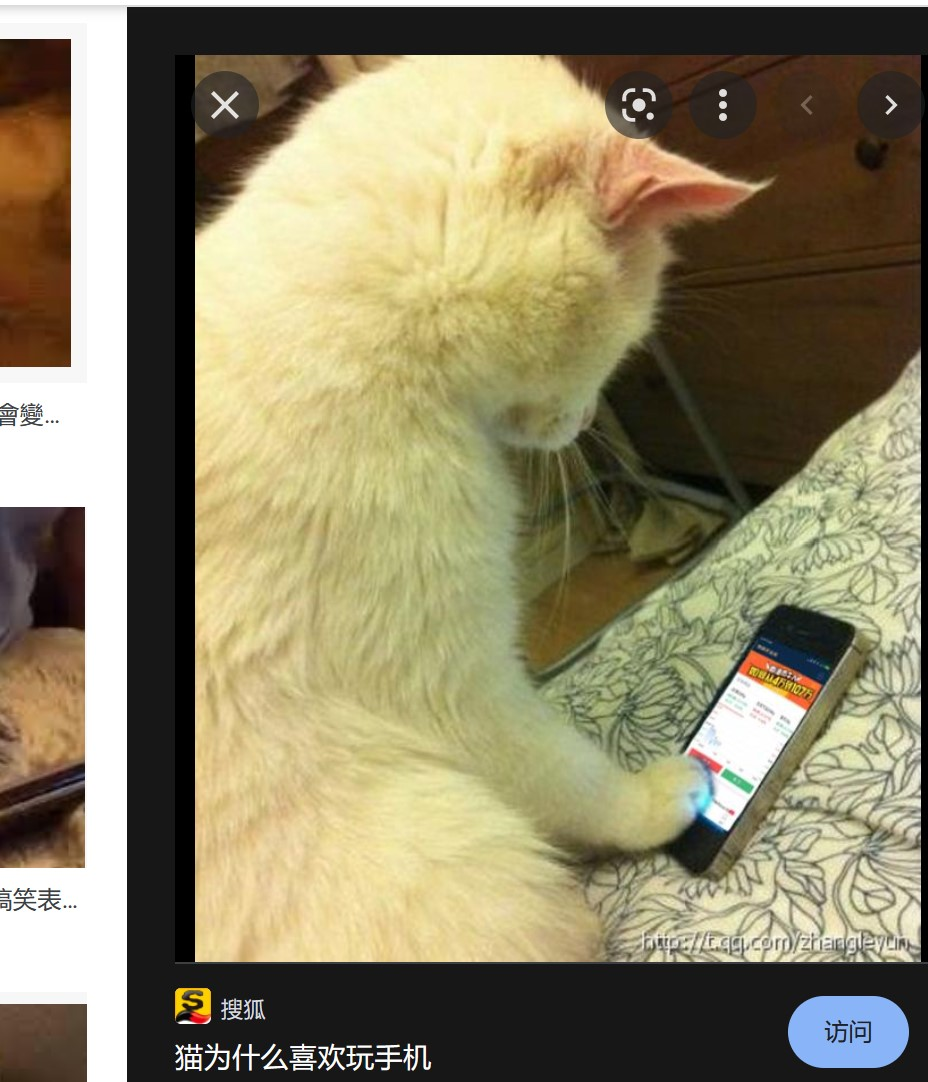cat: (192, 54, 778, 962)
phone: (650, 603, 871, 879)
